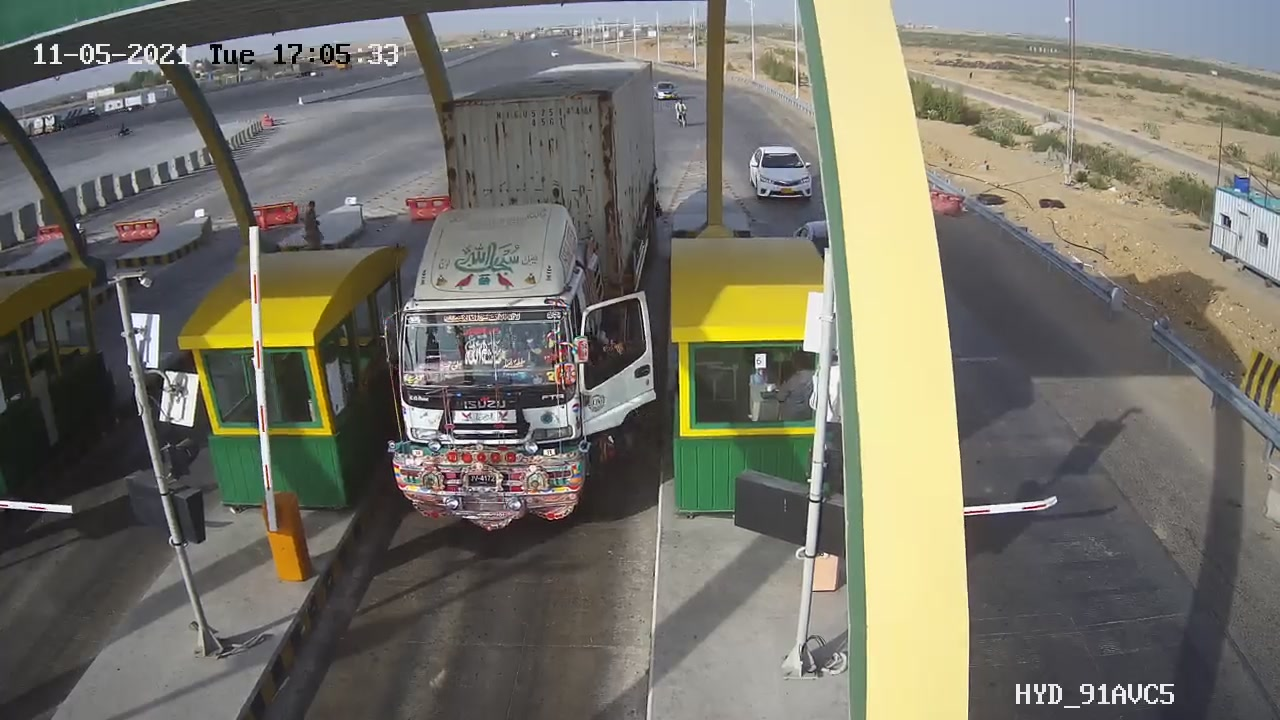F6: (353, 47, 690, 564)
